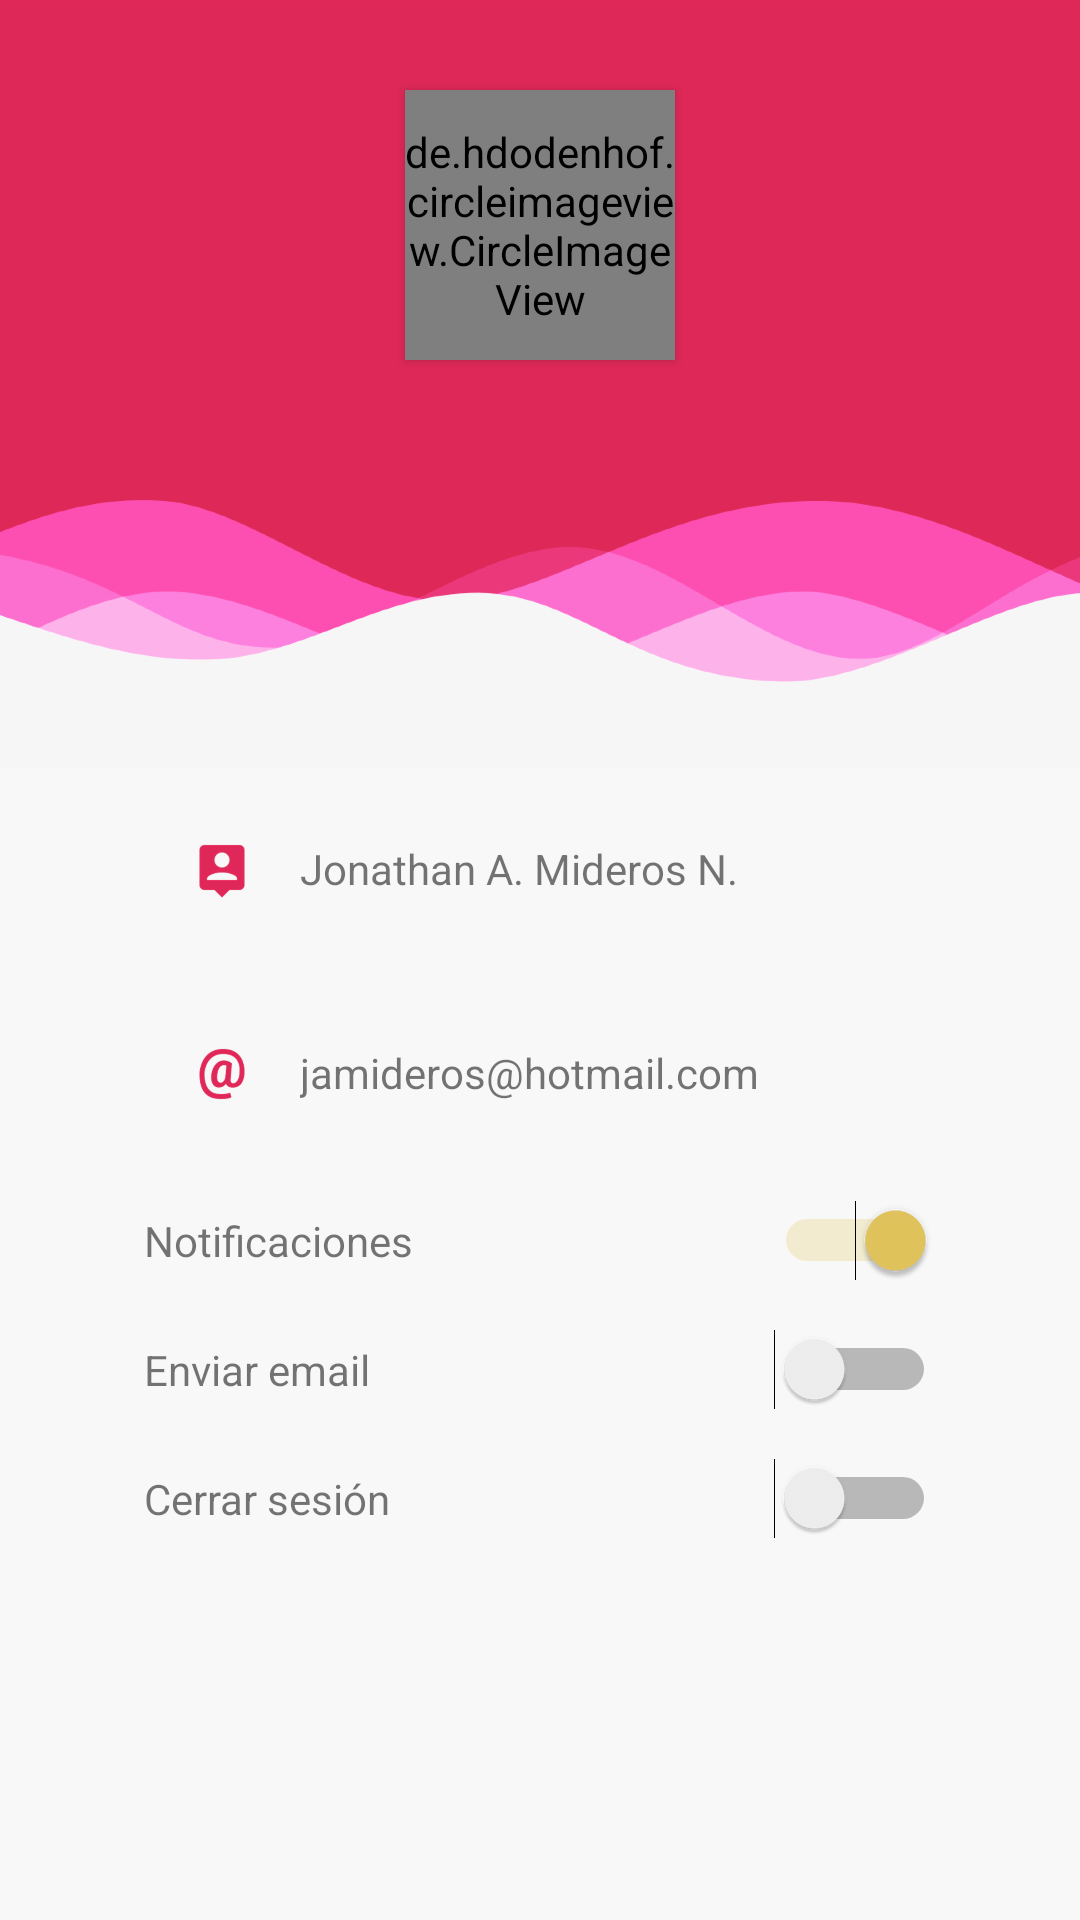

Screen size 1080px×1920px. Icon name, then its center in pixels as [x,y]:
email profile: [222,1074]
user profile: [222,871]
